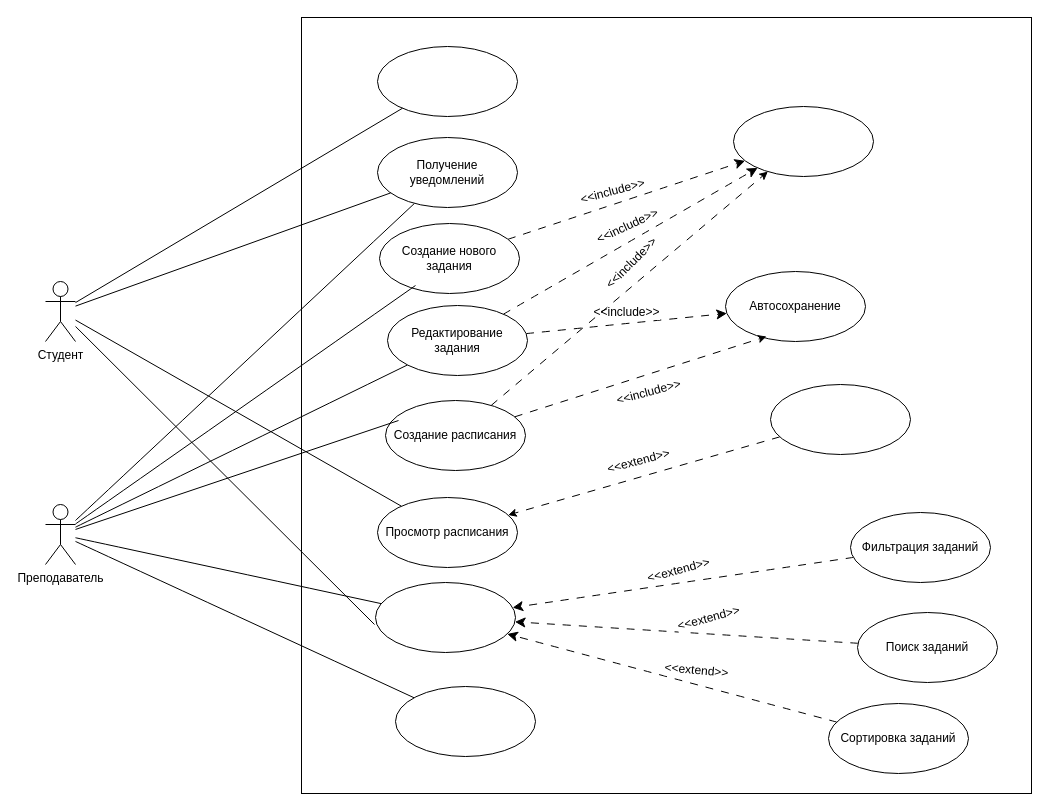
Some shapes in this 1049 by 811 pixel diagram are drawn without their labels. Here are the shapes that lost their labels. From the top down, the centre of each, then its label:
(447,81): Отмечать задания, как выполненные
(803,141): Валидация данных
(840,419): Поиск предметов
(445,617): Просмотр заданий
(465,721): Удаление задания
